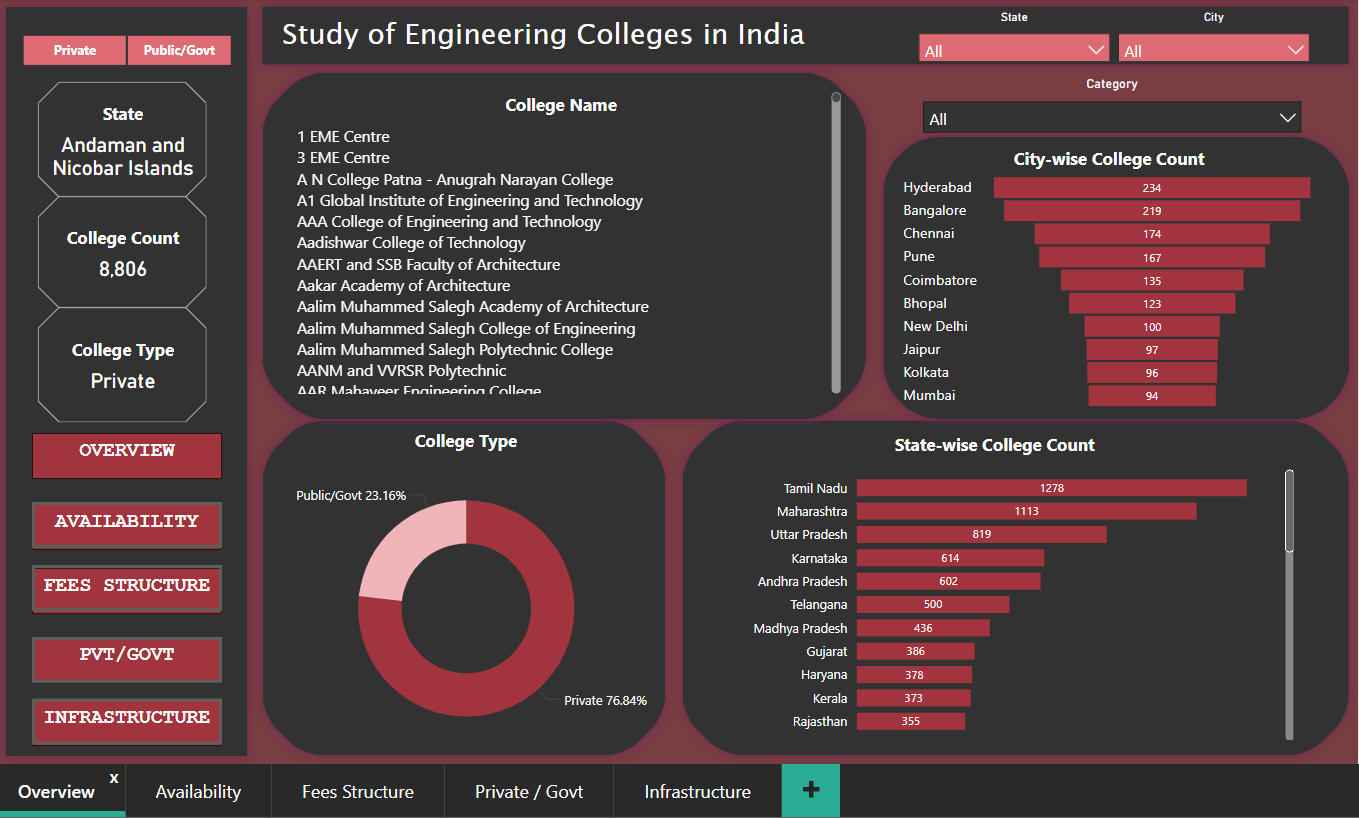

Layout of this report page (visuals, bound fields, positions):
{"tool":"powerbi","page":{"name":"Overview","canvas":[1280,720],"ordinal":0},"visuals":[{"type":"shape","box":[1.6,0,242.8,720.5],"z":0},{"type":"shape","box":[242.8,0,1036.9,70.3],"z":1000},{"type":"textbox","box":[231.7,8,567.2,54.3],"z":2000},{"type":"cardVisual","fields":{"Data":["CountNonNull(Colleges.College Name)"]},"box":[33.6,180.5,169.4,116.6],"z":3000},{"type":"shape","box":[242.8,389.8,394.6,330.7],"z":4000},{"type":"donutChart","title":"College Type","fields":{"Y":["CountNonNull(Details.College Name)"],"Category":["Colleges.College Type"]},"box":[252.4,404.2,378.6,316.3],"z":5000},{"type":"shape","box":[637.5,389.8,642.3,330.7],"z":6000},{"type":"barChart","title":"State-wise College Count","fields":{"Category":["Colleges.State"],"Y":["CountNonNull(Colleges.College Name)"]},"box":[653.4,409,572,294],"z":7000},{"type":"cardVisual","fields":{"Data":["Min(Colleges.State)"]},"box":[33.6,73.5,169.4,119.8],"z":8000},{"type":"slicer","fields":{"Values":["Colleges.College Type"]},"box":[0,28.8,244.4,41.5],"z":9000},{"type":"slicer","title":"Category","fields":{"Values":["Details.Course_Category"]},"box":[861.1,73.5,375.5,60.7],"z":10000},{"type":"slicer","title":"City","fields":{"Values":["Colleges.City"]},"box":[1044.9,11.2,199.7,47.9],"z":11000},{"type":"shape","box":[242.8,62.3,583.1,341.9],"z":12000},{"type":"tableEx","fields":{"Values":["Details.College Name"]},"box":[271.6,83.1,527.2,294],"z":13000},{"type":"shape","box":[826,123,453.7,281.2],"z":14000},{"type":"funnel","title":"City-wise College Count","fields":{"Category":["Colleges.City"],"Y":["CountNonNull(Colleges.College Name)"]},"box":[846.8,139,397.8,250.8],"z":15000},{"type":"slicer","title":"State","fields":{"Values":["Colleges.State"]},"box":[857.9,11.2,199.7,47.9],"z":16000},{"type":"cardVisual","fields":{"Data":["Min(Colleges.College Type)"]},"box":[33.6,284.4,169.4,119.8],"z":17000},{"type":"textbox","box":[33.6,409,178.9,43.1],"z":18000},{"type":"textbox","box":[33.6,474.5,178.9,43.1],"z":19000},{"type":"textbox","box":[33.6,535.2,178.9,43.1],"z":20000},{"type":"textbox","box":[33.6,659.8,178.9,43.1],"z":21000},{"type":"actionButton","box":[33.6,473.4,178.9,43.1],"z":22000},{"type":"actionButton","box":[33.6,533.6,178.9,43.1],"z":23000},{"type":"actionButton","box":[33.6,658.8,178.9,43.1],"z":24000},{"type":"textbox","box":[33.6,600.7,178.9,43.1],"z":25000},{"type":"actionButton","box":[33.6,600.7,178.9,43.1],"z":26000}]}

Visuals, with their boxes on the page's 1280x720 design canvas (x1, y1, x2, y2). These are canvas units, not pixel positions in the 1359x818 screenshot, which may show the page scaled, cropped or inside an application window:
shape: bbox=[2, 0, 244, 720]
shape: bbox=[243, 0, 1280, 70]
textbox: bbox=[232, 8, 799, 62]
cardVisual - CountNonNull(Colleges.College Name): bbox=[34, 180, 203, 297]
shape: bbox=[243, 390, 637, 720]
"College Type" donutChart: bbox=[252, 404, 631, 720]
shape: bbox=[638, 390, 1280, 720]
"State-wise College Count" barChart: bbox=[653, 409, 1225, 703]
cardVisual - Min(Colleges.State): bbox=[34, 74, 203, 193]
slicer - Colleges.College Type: bbox=[0, 29, 244, 70]
"Category" slicer: bbox=[861, 74, 1237, 134]
"City" slicer: bbox=[1045, 11, 1245, 59]
shape: bbox=[243, 62, 826, 404]
tableEx - Details.College Name: bbox=[272, 83, 799, 377]
shape: bbox=[826, 123, 1280, 404]
"City-wise College Count" funnel: bbox=[847, 139, 1245, 390]
"State" slicer: bbox=[858, 11, 1058, 59]
cardVisual - Min(Colleges.College Type): bbox=[34, 284, 203, 404]
textbox: bbox=[34, 409, 212, 452]
textbox: bbox=[34, 474, 212, 518]
textbox: bbox=[34, 535, 212, 578]
textbox: bbox=[34, 660, 212, 703]
actionButton: bbox=[34, 473, 212, 516]
actionButton: bbox=[34, 534, 212, 577]
actionButton: bbox=[34, 659, 212, 702]
textbox: bbox=[34, 601, 212, 644]
actionButton: bbox=[34, 601, 212, 644]
